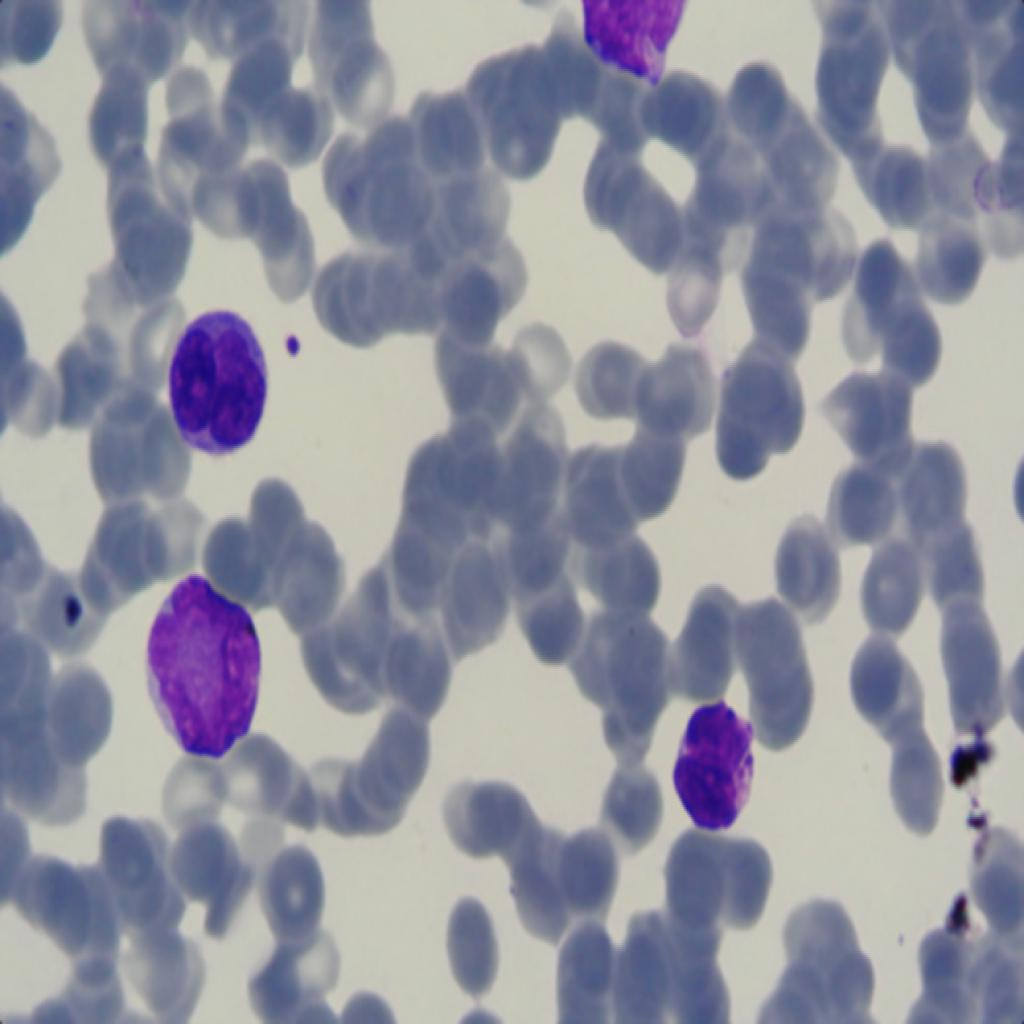Myeoblast: (142, 570, 274, 766), (165, 290, 274, 460), (659, 684, 772, 838)
Platelet: (54, 590, 87, 637), (276, 324, 303, 367)
